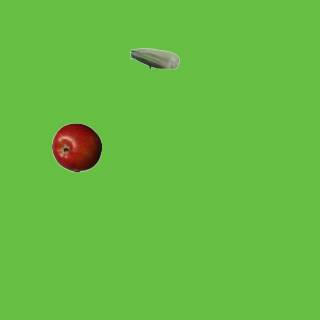Apple Braeburn: (51, 122, 101, 172)
Corn Husk: (129, 33, 179, 83)
